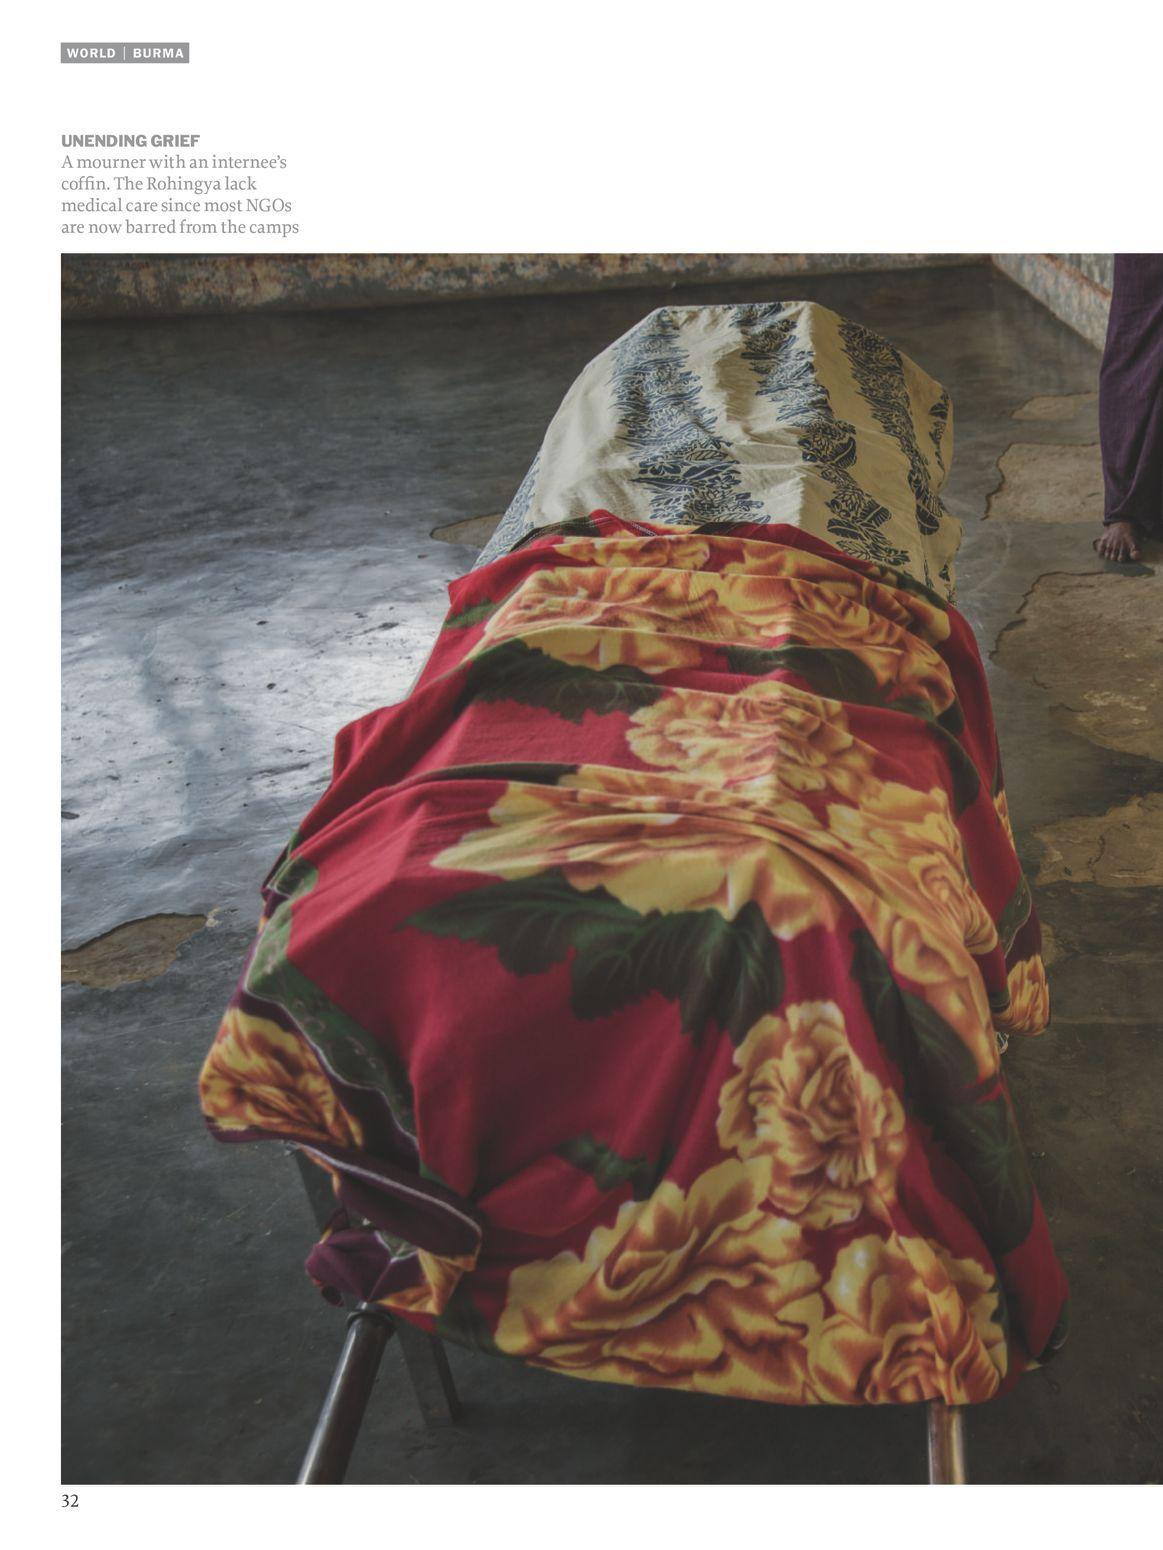paper: (15, 20, 1146, 1515)
